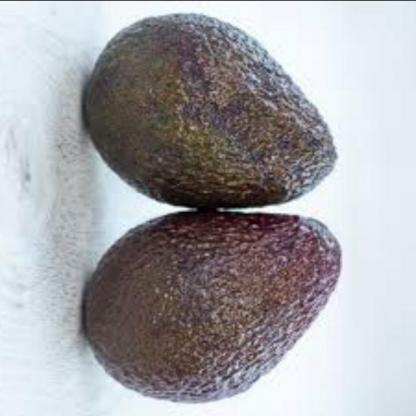avocado: (56, 208, 367, 398), (86, 7, 359, 213)
